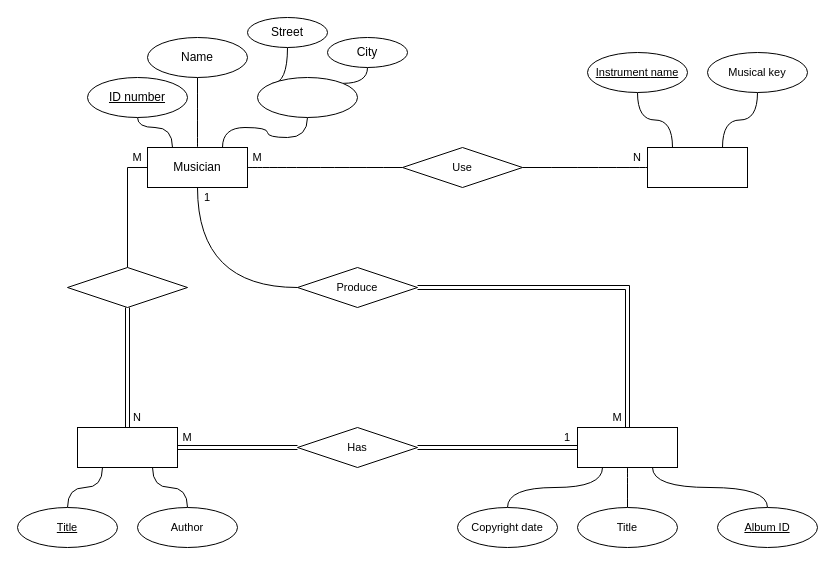
The diagram is 835 pixels wide and 565 high, and some of its shapes have lost their labels. The shapes that lost their labels are listed below. From the top down, each one's box as (x1, y1, x2, y2) in pixels, then its label:
(256, 76, 358, 118): Address
(646, 146, 748, 188): Instrument
(66, 266, 188, 308): Play
(76, 426, 178, 468): Song
(576, 426, 678, 468): Album
